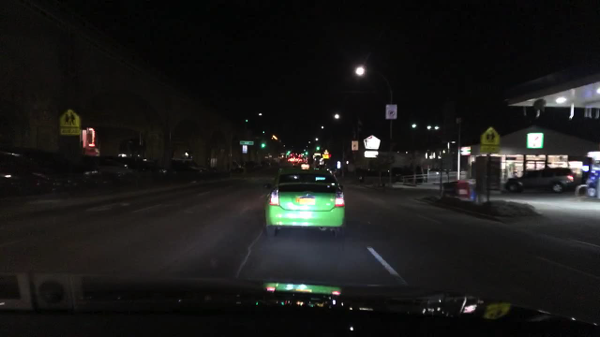car: (263, 166, 346, 239), (0, 147, 88, 190), (504, 167, 578, 194), (87, 157, 140, 184), (140, 161, 174, 180), (174, 159, 203, 179), (586, 169, 598, 198), (287, 153, 303, 164), (230, 160, 244, 172)
traffic light: (260, 142, 266, 149), (284, 148, 291, 154), (315, 146, 320, 151), (305, 149, 308, 154)
traffic sign: (58, 110, 82, 139), (479, 126, 502, 150), (362, 134, 380, 149), (385, 105, 400, 121), (363, 150, 377, 157), (240, 140, 253, 147), (351, 141, 358, 153)
